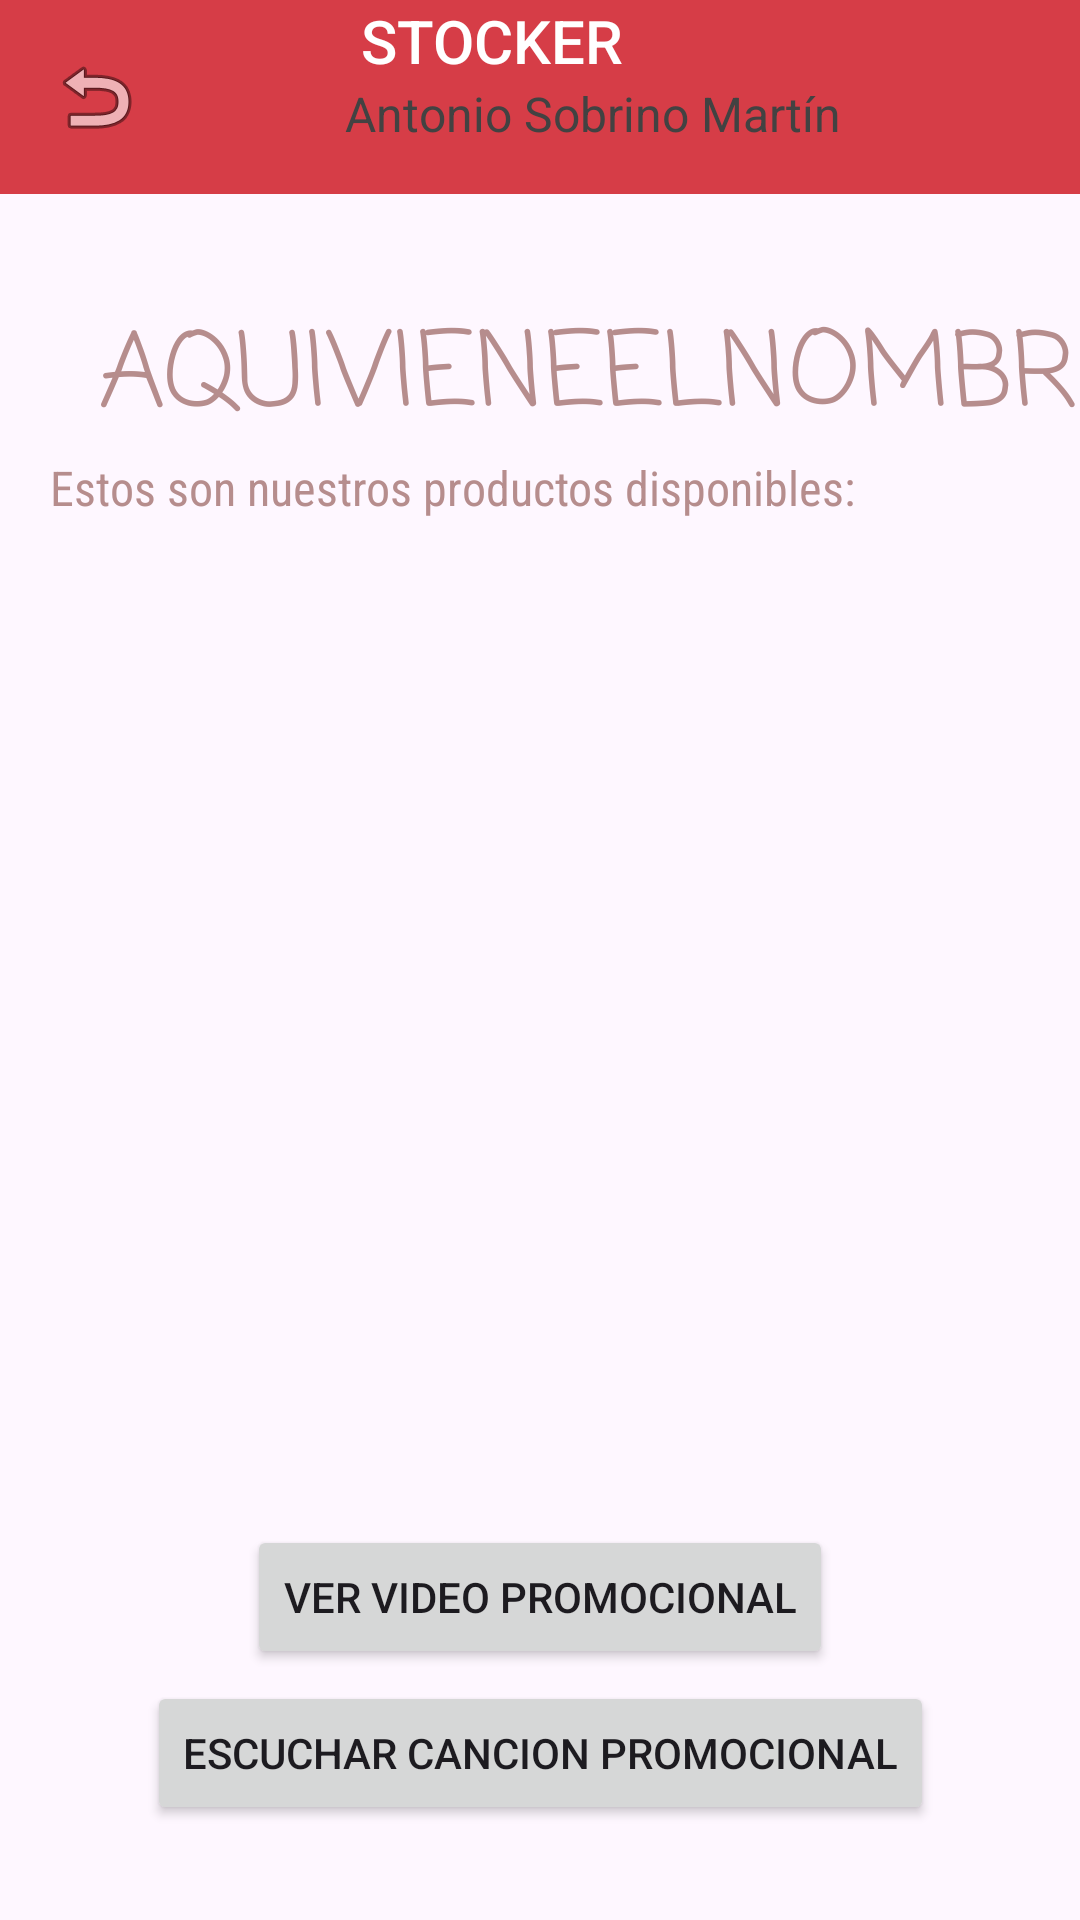

Screen size 1080w x 1920h. Icon name, then its box in pixels as bbox=(x1, y1, x2, y2):
revert: bbox=(63, 66, 132, 129)
